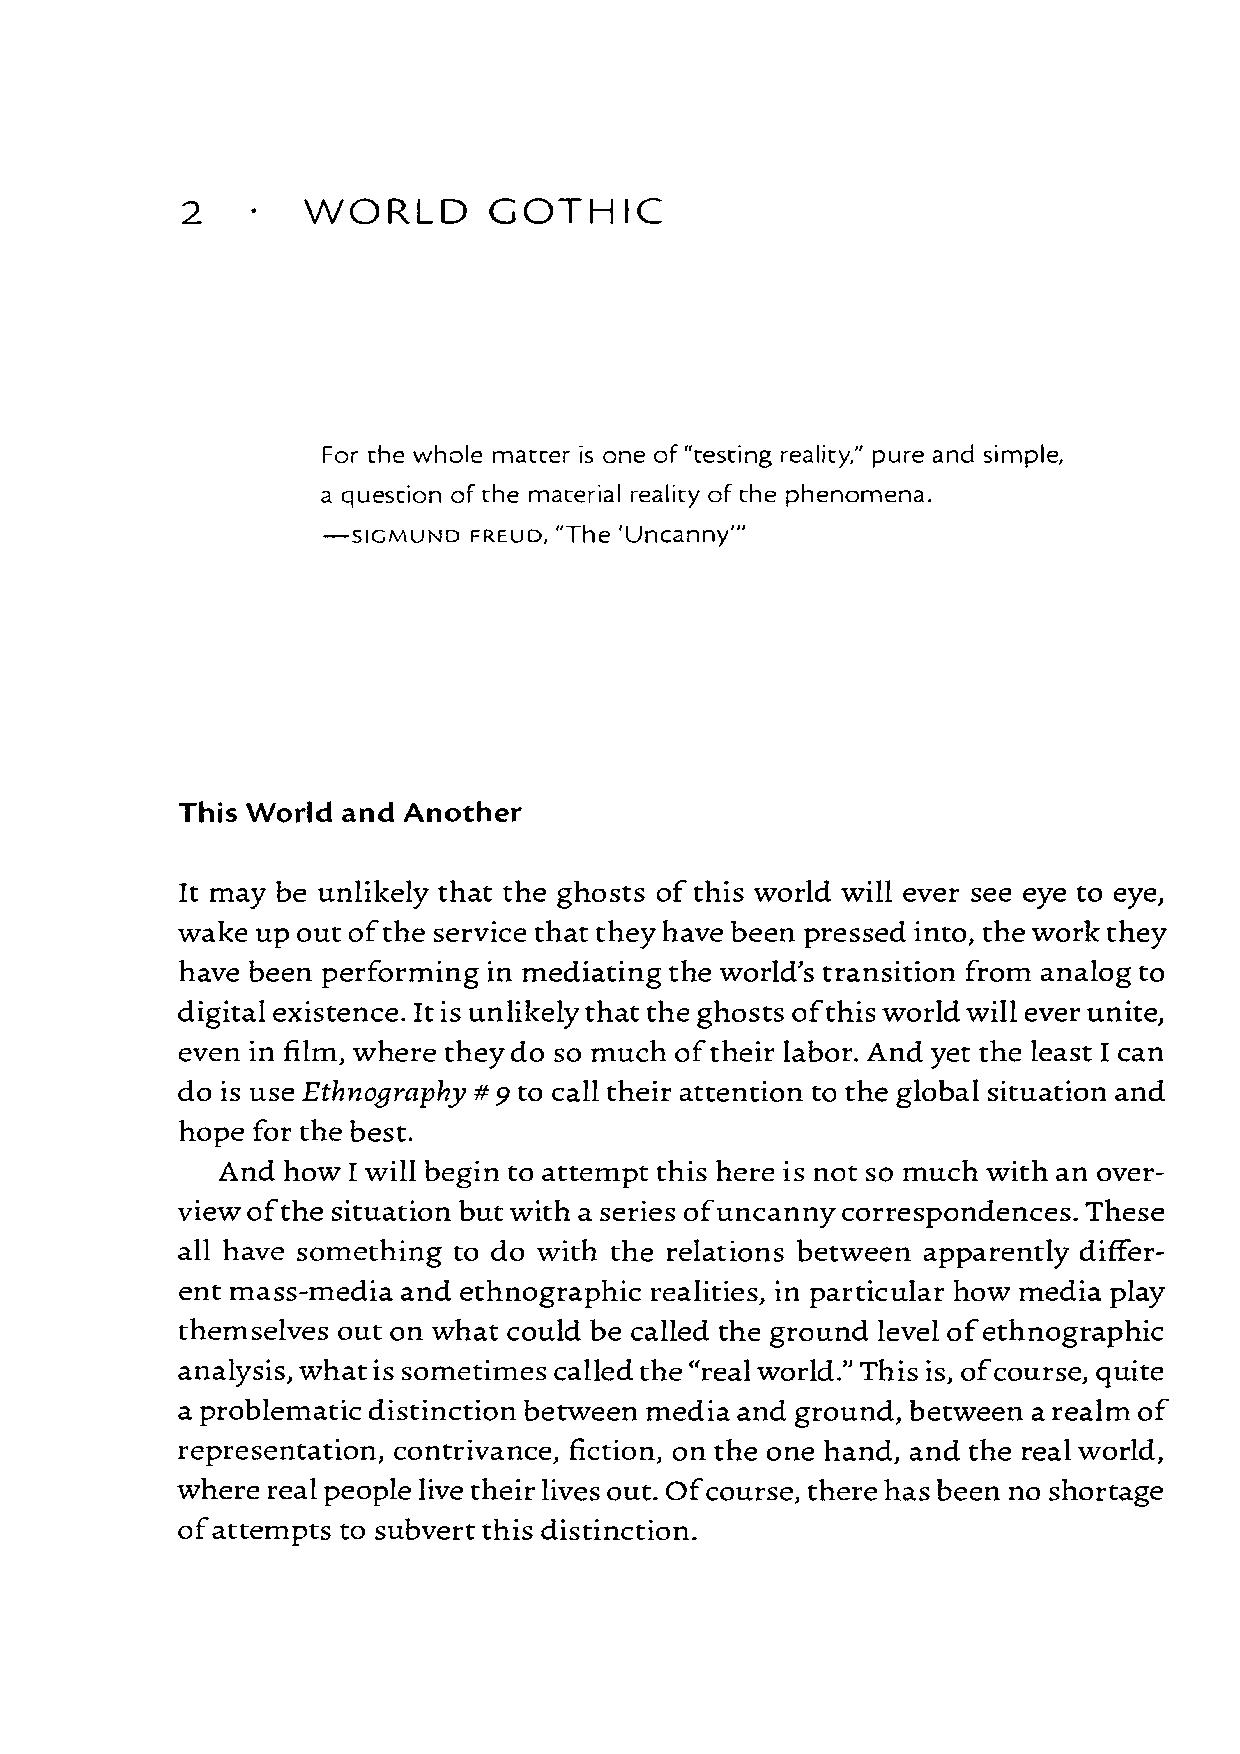chapter: (291, 189, 667, 228), (174, 797, 522, 827)
content: (170, 874, 1168, 1545), (313, 437, 1068, 548)
content_pagenumber: (174, 196, 207, 225)
